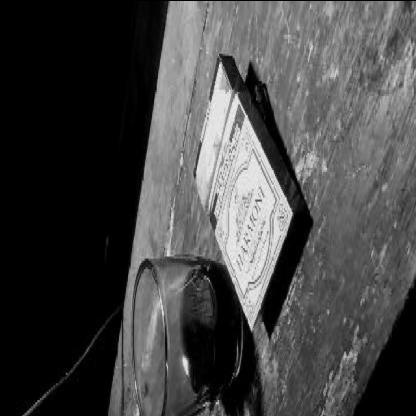objects: (194, 54, 306, 330)
